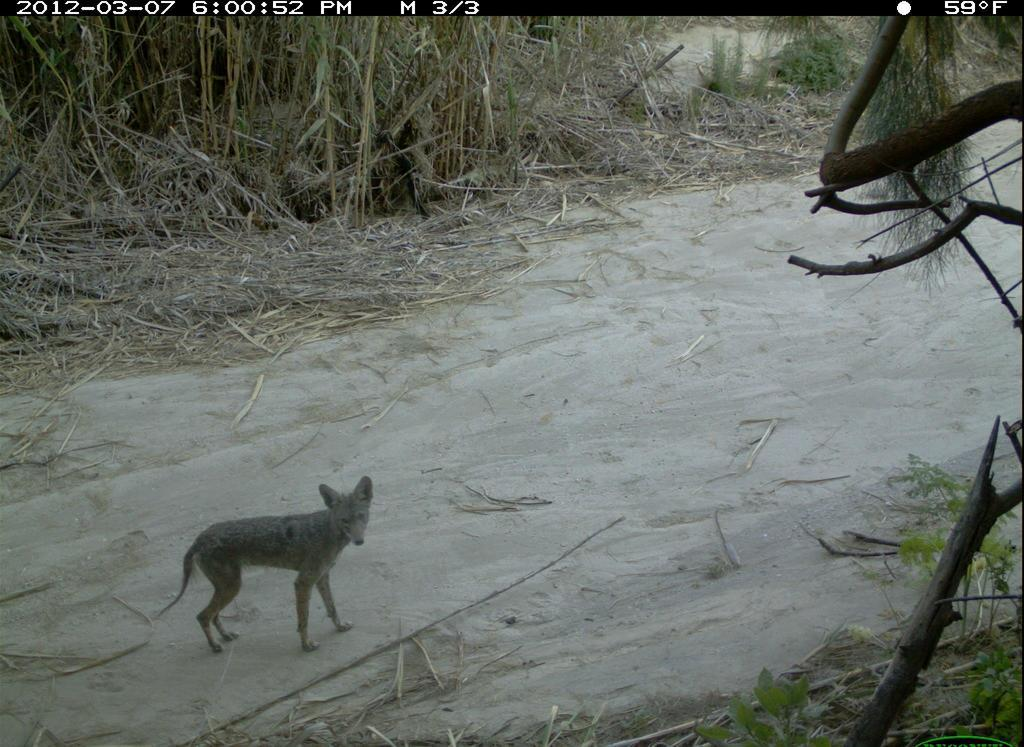coyote: (157, 466, 382, 658)
